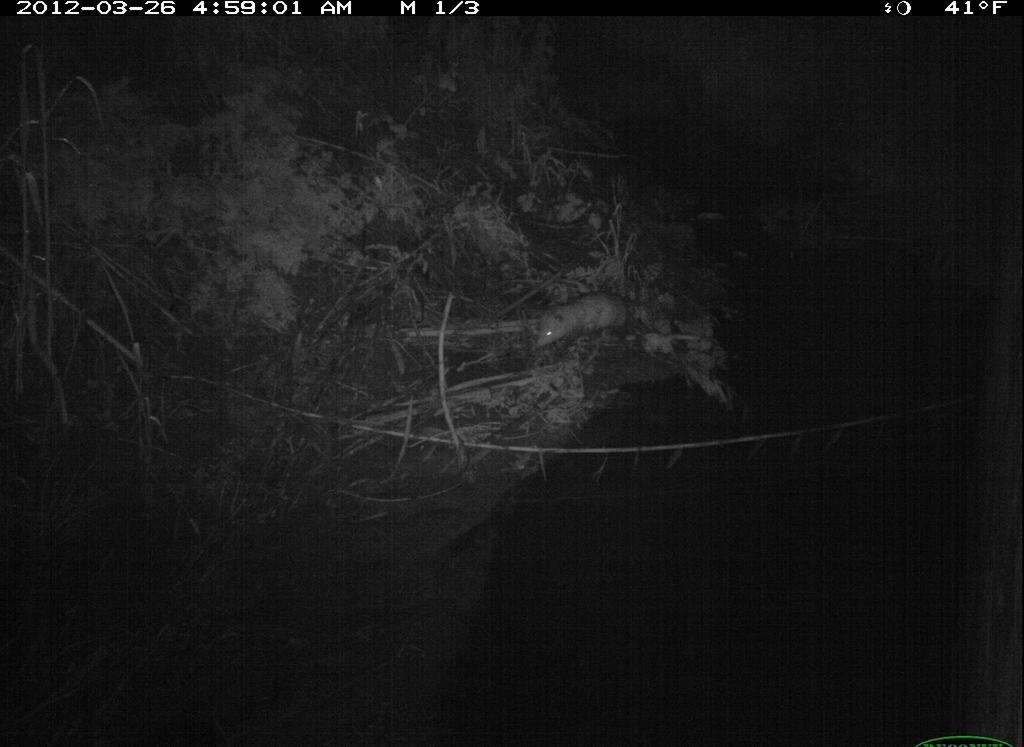opossum: (524, 280, 657, 361)
